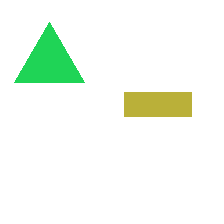rectangle: (124, 92, 191, 116)
triangle: (14, 22, 84, 82)
